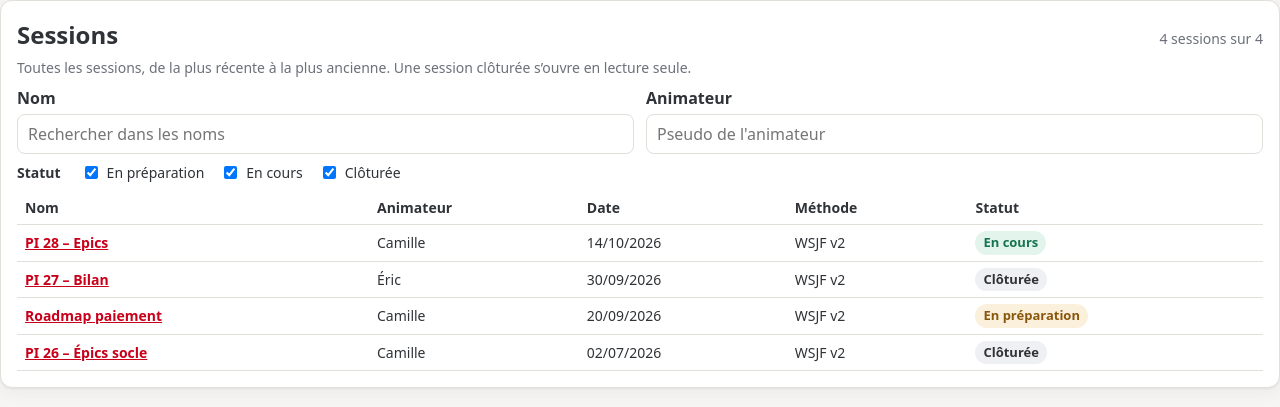
Test case: SessionListComponent › filters (FR-026b) › shows only the checked statuses, and none when no status is checked
Click the checkbox labelled "Clôturée".
click(329, 172)  # box [323,166,336,179]
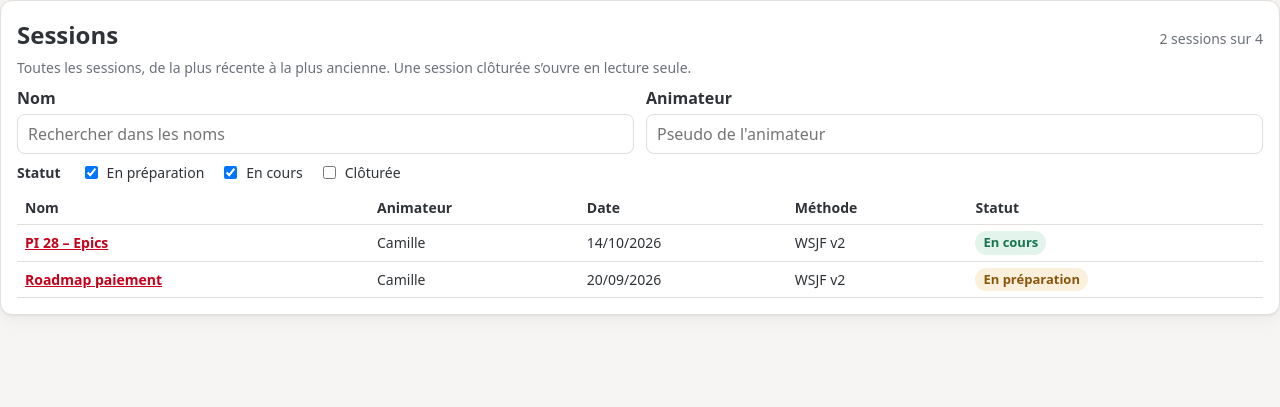
Click the checkbox labelled "En cours".
click(231, 172)  # box [224,166,237,179]
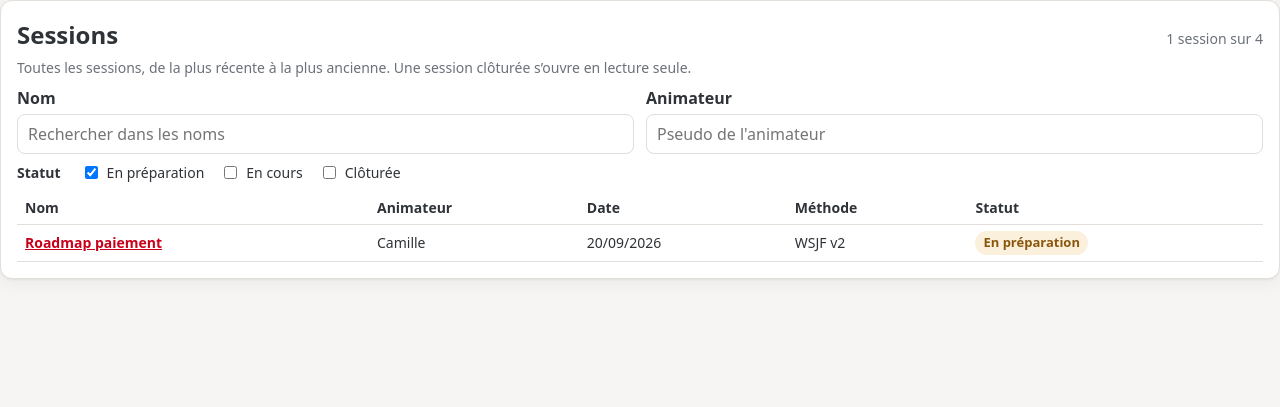
Click the checkbox labelled "En préparation".
click(91, 172)  # box [85,166,98,179]
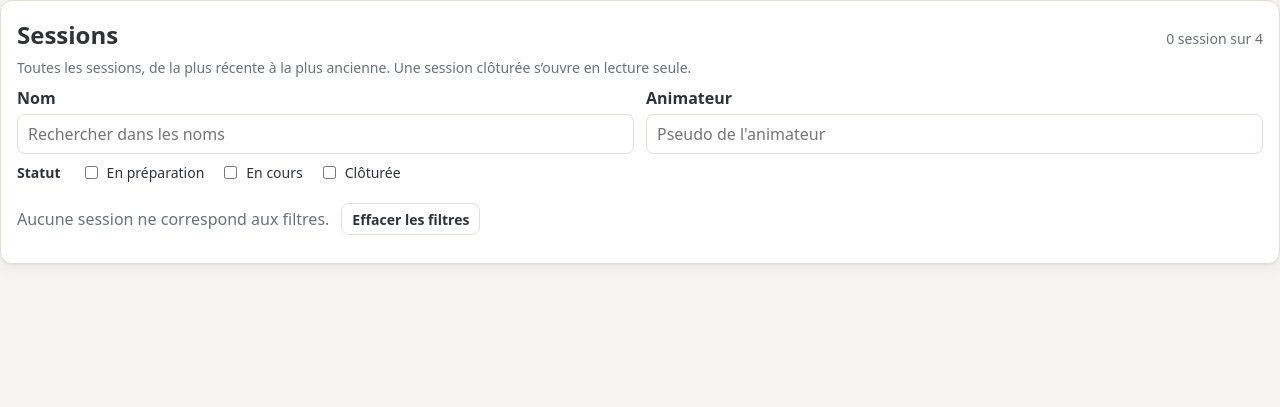
expect the table is gone: met
expect the text "Aucune session ne correspond aux filtres." is shown: met, box [17,207,329,231]
expect the message "0 session sur 4" is shown: met, box [1166,28,1263,49]
